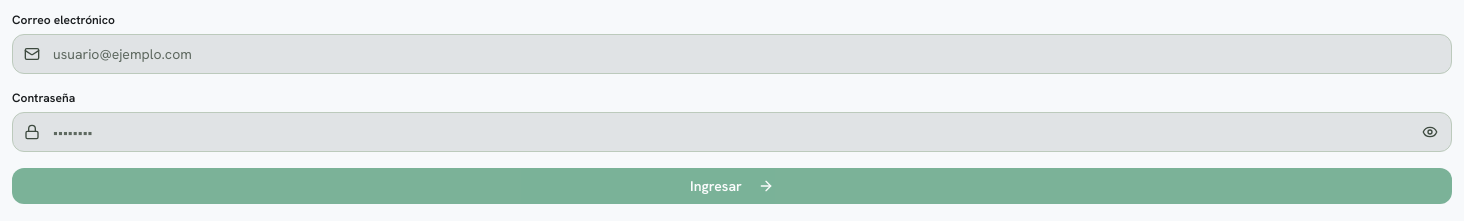
Test: LoginForm — submit y loading state › submit → muestra estado 'Ingresando…' mientras signIn está pending
Type "user@example.com" into the field labelled "Correo electrónico" at x=732, y=54, box [12, 34, 1452, 74]
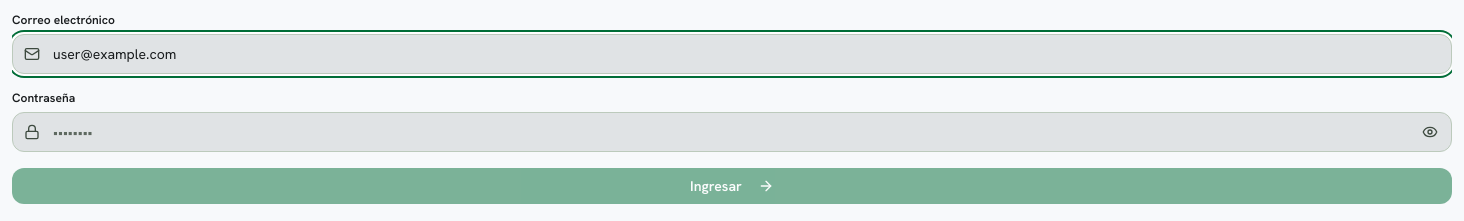
Type "secret123" into the password field labelled "Contraseña" at x=732, y=132, box [12, 112, 1452, 152]
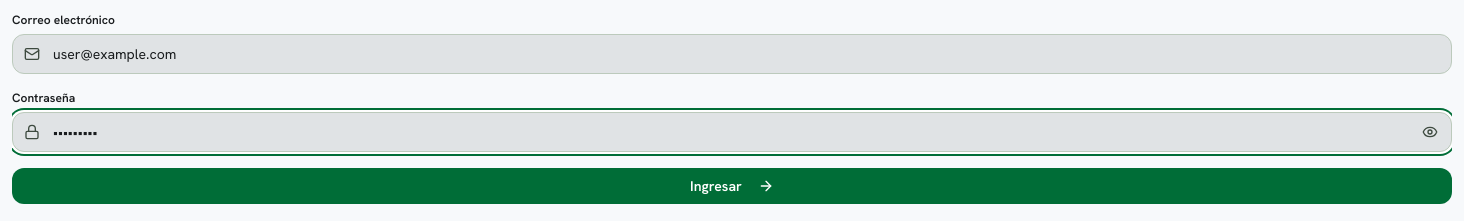
Click the button "Ingresar" at x=732, y=186, box [12, 168, 1452, 204]
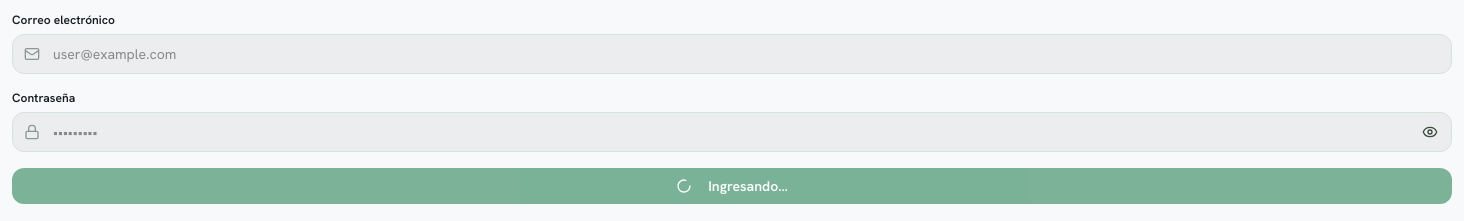
Expected: the button "Ingresando…" is disabled, [12, 168, 1452, 204]
